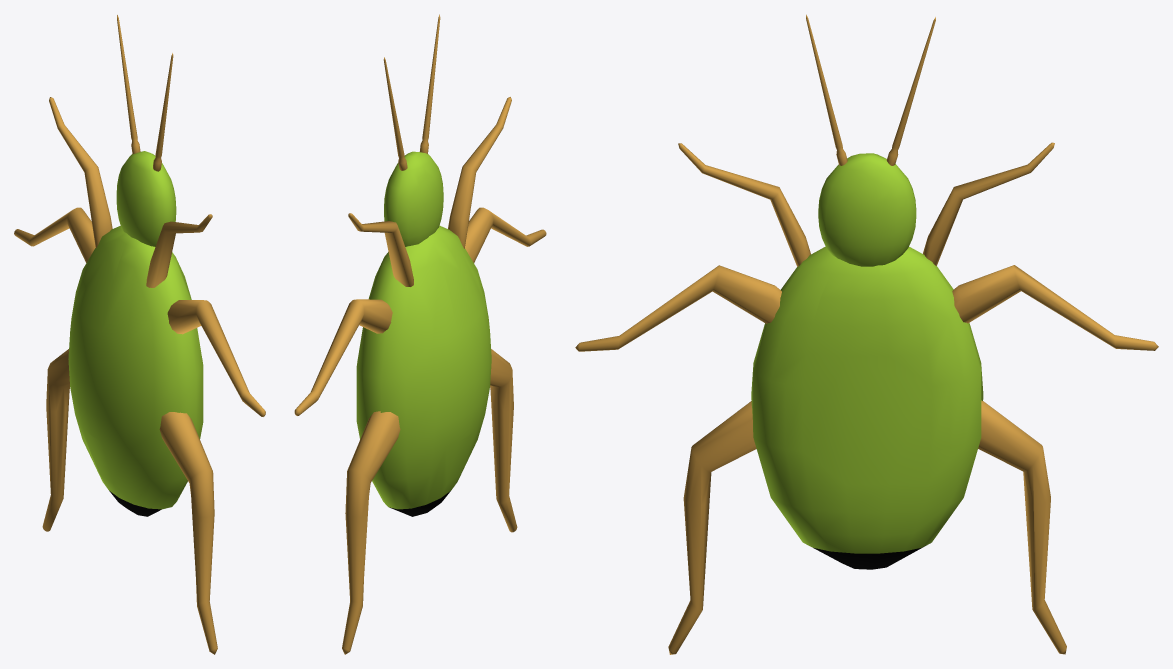
The model's file is beetleBug.fbx.
3 renders of one model, left to right at view 1: azimuth 30°, elevation 25°; view 2: azimuth 150°, elevation 25°; view 3: azimuth 270°, elevation 25°, orthographic. The views are drawn at different scales.
Visible parts, largest first — view 1: Sphere, Sphere.001, Sphere.002, Sphere.004, Sphere.006, Sphere.003, Sphere.005, Sphere.007; view 2: Sphere, Sphere.002, Sphere.001, Sphere.003, Sphere.005, Sphere.004, Sphere.006, Sphere.007; view 3: Sphere, Sphere.002, Sphere.001, Sphere.004, Sphere.003, Sphere.005, Sphere.006, Sphere.007.
Boxes of the visible parts, x1,y1,x2,y2 form: Sphere: (68,151,203,516); Sphere.001: (159,412,217,654); Sphere.002: (42,349,69,531); Sphere.004: (167,300,265,416); Sphere.006: (49,97,112,248); Sphere.003: (14,207,95,262); Sphere.005: (146,214,212,287); Sphere.007: (117,15,173,171); Sphere: (356,151,491,516); Sphere.002: (342,411,400,654); Sphere.001: (490,349,517,532); Sphere.003: (294,299,392,415); Sphere.005: (448,97,511,248); Sphere.004: (465,207,546,262); Sphere.006: (348,213,413,286); Sphere.007: (383,14,440,170); Sphere: (751,153,983,569); Sphere.002: (978,400,1066,654); Sphere.001: (668,401,756,654); Sphere.004: (575,265,781,351); Sphere.003: (952,265,1158,350); Sphere.005: (678,143,810,266); Sphere.006: (923,142,1054,265); Sphere.007: (806,14,935,165).
Size of the model in its own units: 65.17 by 389 by 317.
